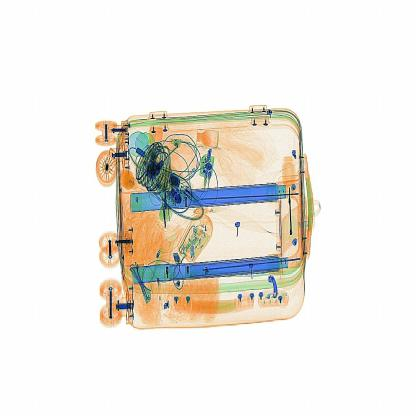wrench: (271, 144, 303, 248)
